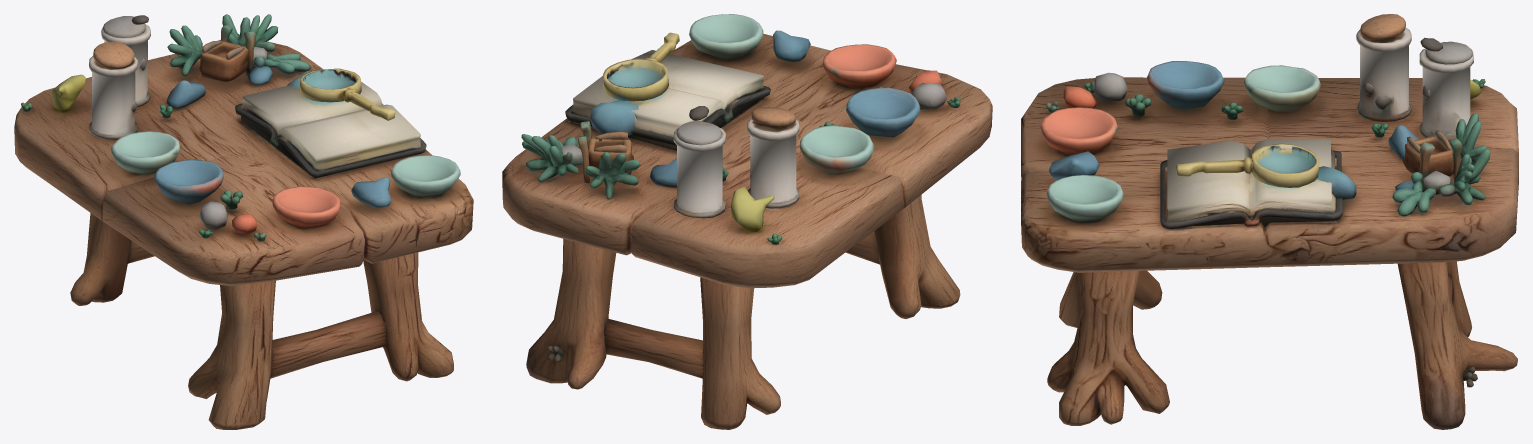
The model's file is evidence-workbench.glb.
3 views of the same model, side by side, from view 1: azimuth 30°, elevation 25°; view 2: azimuth 150°, elevation 25°; view 3: azimuth 270°, elevation 25° (orthographic). The views are drawn at different scales.
Parts seen in each view (by area): view 1: tripo_node_8254afb7-b3b0-4d61-98e7-f14d192e5069; view 2: tripo_node_8254afb7-b3b0-4d61-98e7-f14d192e5069; view 3: tripo_node_8254afb7-b3b0-4d61-98e7-f14d192e5069.
Boxes of the visible parts, box(x1,y1,x2,y2) form: tripo_node_8254afb7-b3b0-4d61-98e7-f14d192e5069: box(14, 14, 473, 429); tripo_node_8254afb7-b3b0-4d61-98e7-f14d192e5069: box(502, 14, 992, 429); tripo_node_8254afb7-b3b0-4d61-98e7-f14d192e5069: box(1021, 14, 1518, 429).
Bounding box in the file's own units: 0.752 × 0.6895 × 0.998.
1 material, 1 textured.
